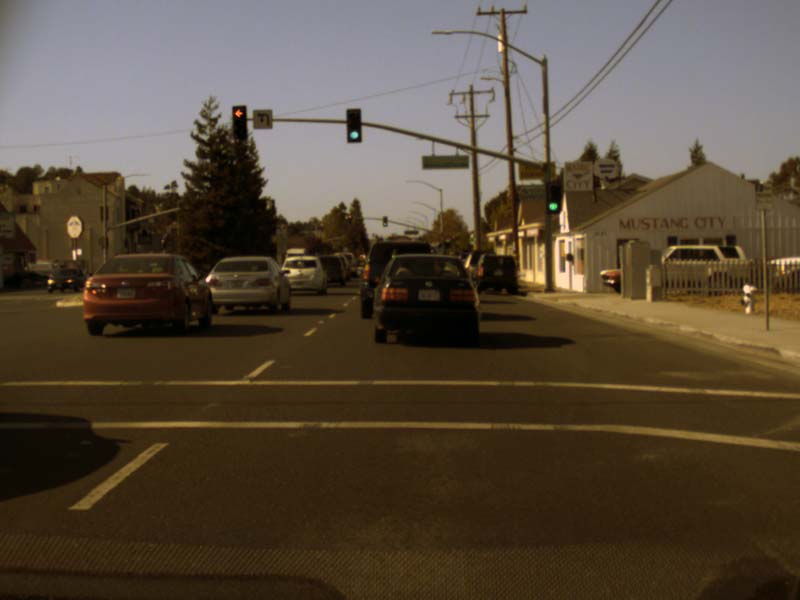Green: (547, 183, 562, 213), (347, 110, 359, 142), (382, 216, 387, 225), (346, 213, 351, 220)
Red: (232, 104, 244, 138)
